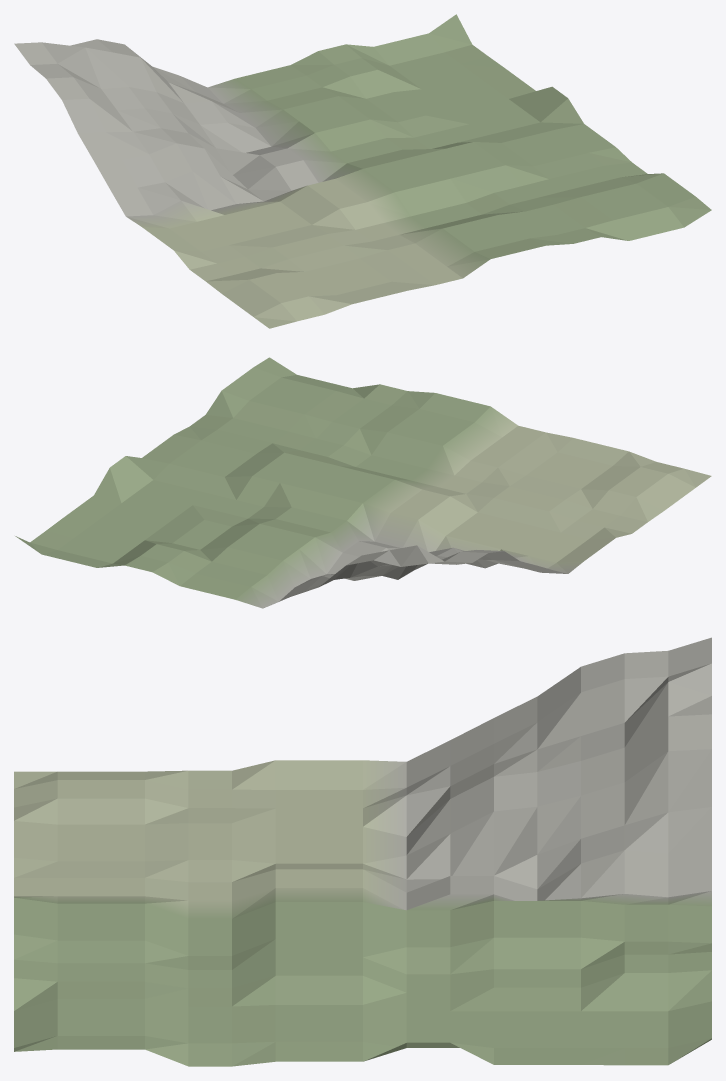
3 views of the same model, one above another, from view 1: azimuth 30°, elevation 25°; view 2: azimuth 150°, elevation 25°; view 3: azimuth 270°, elevation 25° (orthographic). The views are drawn at different scales.
Bounding box in the file's own units: 32 × 7.58 × 32.
